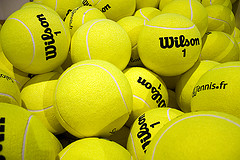tennis ball: (53, 59, 133, 139), (1, 5, 71, 75), (142, 110, 240, 159), (137, 13, 202, 76), (1, 102, 63, 159), (70, 18, 132, 71), (19, 71, 69, 136), (120, 66, 169, 127), (190, 60, 240, 116), (55, 136, 132, 159), (161, 1, 208, 38), (199, 31, 239, 65), (65, 5, 108, 36)
